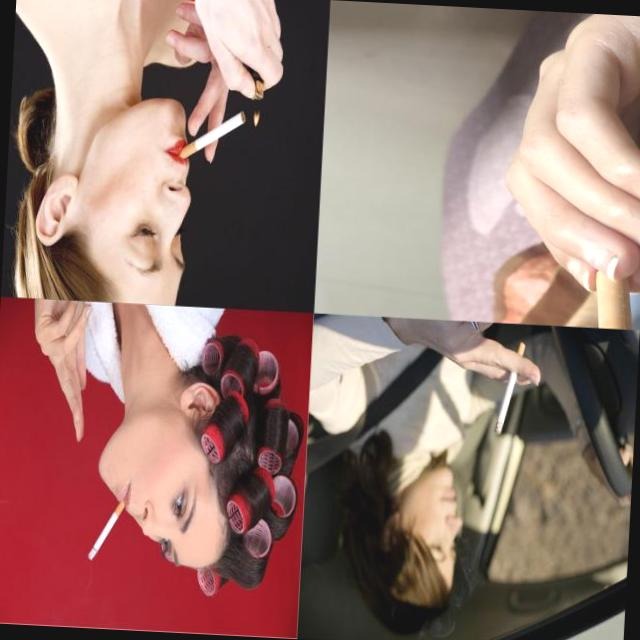cigarette: (178, 106, 246, 163), (492, 340, 526, 437), (86, 496, 126, 563)
